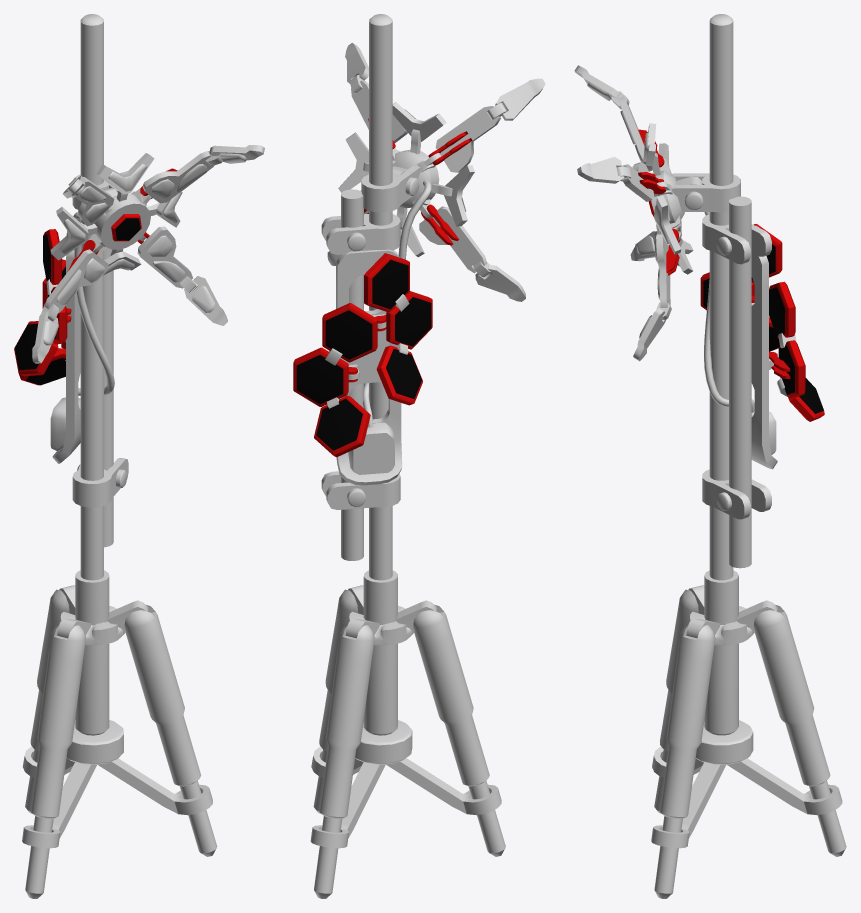
Rendered from SM_Light_Stand.FBX.
The picture shows the model from 3 angles, left to right: view 1: azimuth 30°, elevation 25°; view 2: azimuth 150°, elevation 25°; view 3: azimuth 270°, elevation 25°; orthographic projection.
Parts seen in each view (by area): view 1: Light_Stand; view 2: Light_Stand; view 3: Light_Stand.
Part boxes in pixels (left/top/right/bottom): Light_Stand: left=14, top=14, right=264, bottom=898; Light_Stand: left=293, top=14, right=545, bottom=898; Light_Stand: left=574, top=14, right=846, bottom=898.
Size of the model in its own units: 73.63 by 288 by 84.66.
